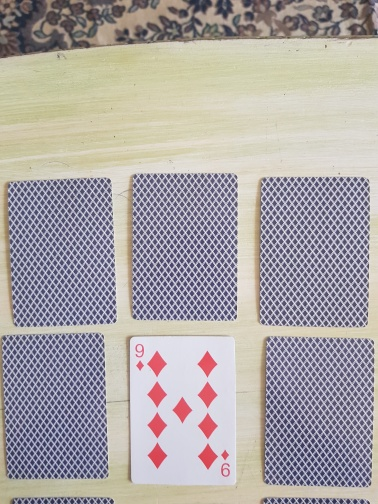nine: (128, 335, 238, 487)
